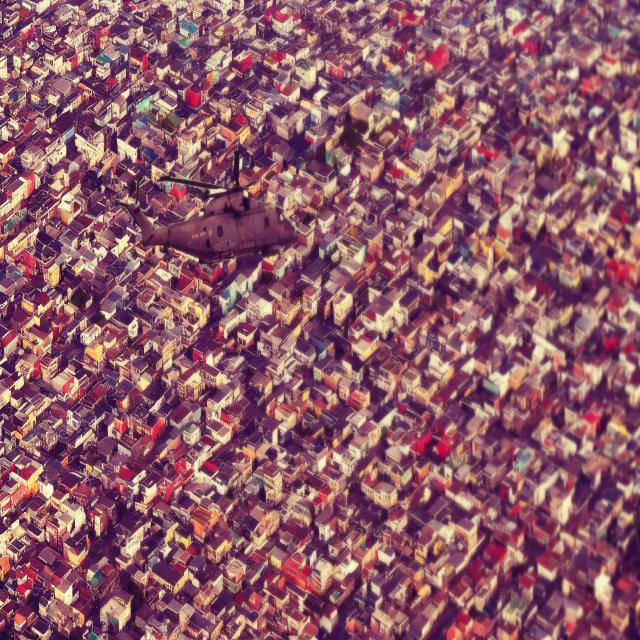airplane: (115, 148, 297, 260)
